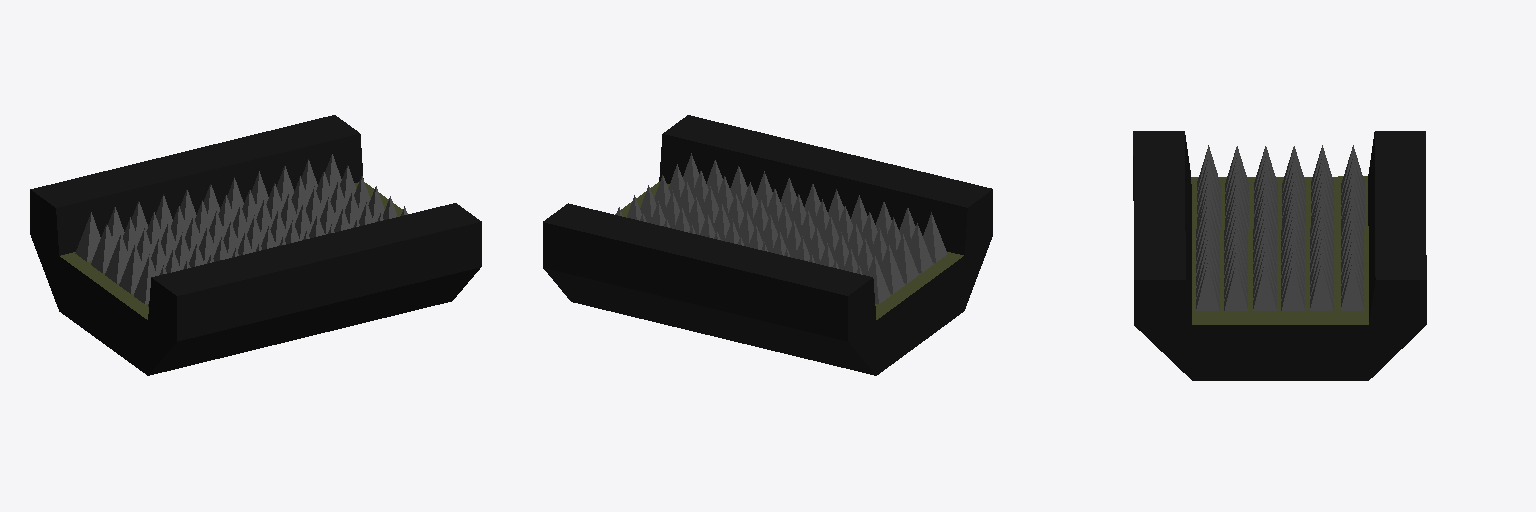
File: piques.obj
The picture shows the model from 3 angles: view 1: azimuth 30°, elevation 25°; view 2: azimuth 150°, elevation 25°; view 3: azimuth 270°, elevation 25°; orthographic projection.
Visible parts, largest first — view 1: Mesh67 default_group1 Mesh1_Mesh1_default_object_skpAB1_Mesh1_de, Mesh66 default_group Cube_020_Cube_021 skp104_1 Model, Mesh63 default_group Cube_020_Cube_021 skp104_1 Model, Mesh64 default_group Cube_020_Cube_021 skp104_1 Model, Mesh65 default_group Cube_020_Cube_021 skp104_1 Model, Mesh62 default_group Cube_020_Cube_021 skp104_1 Model; view 2: Mesh67 default_group1 Mesh1_Mesh1_default_object_skpAB1_Mesh1_de, Mesh62 default_group Cube_020_Cube_021 skp104_1 Model, Mesh61 default_group Cube_020_Cube_021 skp104_1 Model, Mesh63 default_group Cube_020_Cube_021 skp104_1 Model, Mesh64 default_group Cube_020_Cube_021 skp104_1 Model, Mesh65 default_group Cube_020_Cube_021 skp104_1 Model; view 3: Mesh67 default_group1 Mesh1_Mesh1_default_object_skpAB1_Mesh1_de, Mesh1 default_group Cube_020_Cube_021 skp104_1 Model, Mesh2 default_group Cube_020_Cube_021 skp104_1 Model, Mesh3 default_group Cube_020_Cube_021 skp104_1 Model, Mesh4 default_group Cube_020_Cube_021 skp104_1 Model, Mesh5 default_group Cube_020_Cube_021 skp104_1 Model, Mesh6 default_group Cube_020_Cube_021 skp104_1 Model.
Boxes of the visible parts, box(x1,y1,x2,y2) form: Mesh67 default_group1 Mesh1_Mesh1_default_object_skpAB1_Mesh1_de: box(30, 115, 481, 375); Mesh66 default_group Cube_020_Cube_021 skp104_1 Model: box(75, 212, 100, 261); Mesh63 default_group Cube_020_Cube_021 skp104_1 Model: box(119, 244, 143, 293); Mesh64 default_group Cube_020_Cube_021 skp104_1 Model: box(105, 235, 129, 283); Mesh65 default_group Cube_020_Cube_021 skp104_1 Model: box(91, 224, 115, 272); Mesh62 default_group Cube_020_Cube_021 skp104_1 Model: box(134, 254, 156, 304); Mesh67 default_group1 Mesh1_Mesh1_default_object_skpAB1_Mesh1_de: box(543, 115, 992, 375); Mesh62 default_group Cube_020_Cube_021 skp104_1 Model: box(909, 223, 933, 272); Mesh61 default_group Cube_020_Cube_021 skp104_1 Model: box(923, 212, 946, 262); Mesh63 default_group Cube_020_Cube_021 skp104_1 Model: box(894, 234, 918, 283); Mesh64 default_group Cube_020_Cube_021 skp104_1 Model: box(880, 244, 904, 293); Mesh65 default_group Cube_020_Cube_021 skp104_1 Model: box(867, 254, 890, 303); Mesh67 default_group1 Mesh1_Mesh1_default_object_skpAB1_Mesh1_de: box(1133, 131, 1426, 380); Mesh1 default_group Cube_020_Cube_021 skp104_1 Model: box(1196, 263, 1219, 310); Mesh2 default_group Cube_020_Cube_021 skp104_1 Model: box(1224, 263, 1247, 310); Mesh3 default_group Cube_020_Cube_021 skp104_1 Model: box(1253, 264, 1276, 310); Mesh4 default_group Cube_020_Cube_021 skp104_1 Model: box(1281, 263, 1304, 310); Mesh5 default_group Cube_020_Cube_021 skp104_1 Model: box(1310, 263, 1333, 310); Mesh6 default_group Cube_020_Cube_021 skp104_1 Model: box(1341, 262, 1363, 310).
Bounding box in the file's own units: 6.02 × 1.9 × 5.01.